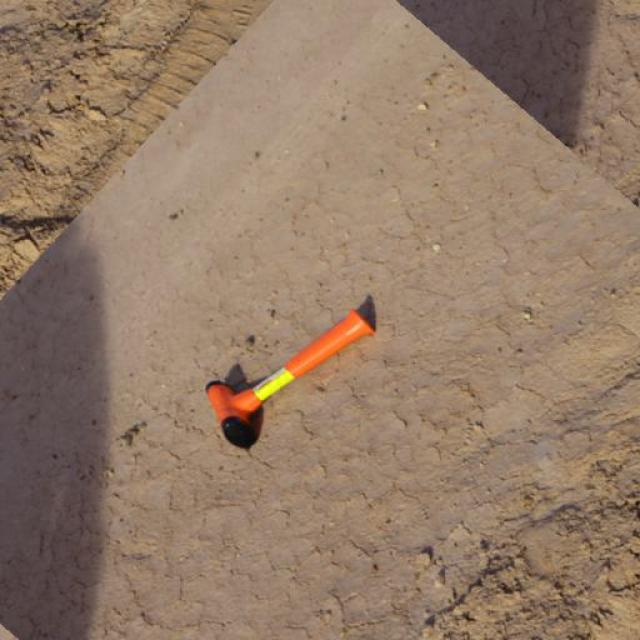mallet: (204, 292, 378, 450)
